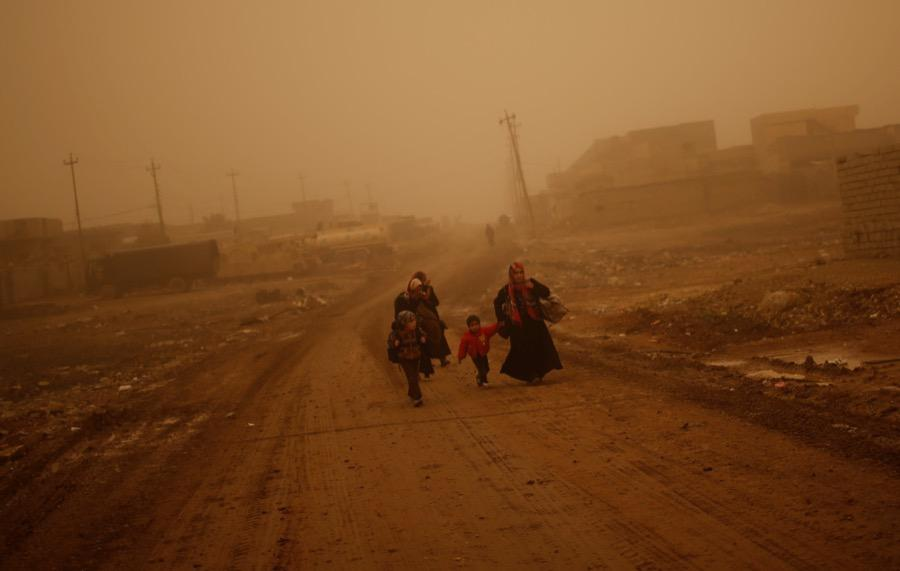bus: (82, 238, 225, 300)
person: (493, 261, 562, 384), (403, 270, 452, 372), (391, 278, 438, 378), (386, 309, 429, 406), (457, 313, 502, 389), (484, 221, 496, 247)
